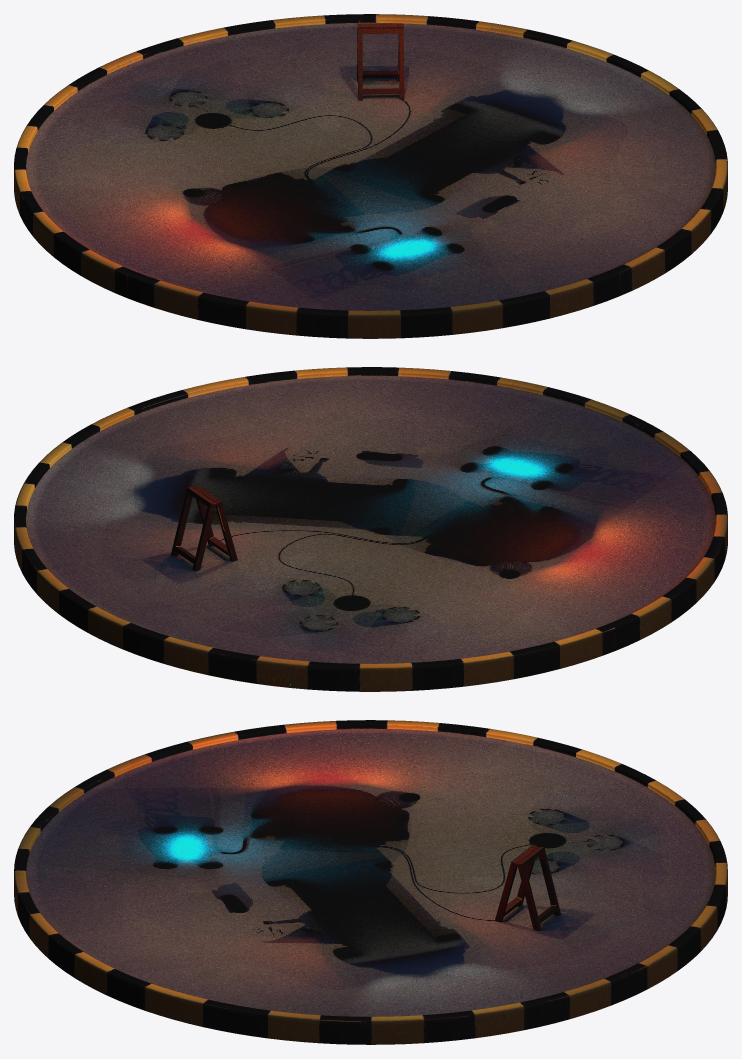
The model's file is ground.glb.
The picture shows the model from 3 angles, top to bottom: view 1: azimuth 30°, elevation 25°; view 2: azimuth 150°, elevation 25°; view 3: azimuth 270°, elevation 25°; orthographic projection.
Visible parts, largest first — view 1: Ground.004; view 2: Ground.004; view 3: Ground.004.
Part boxes in pixels (x1,y1,x2,y2): Ground.004: [14, 14, 727, 338]; Ground.004: [14, 367, 727, 691]; Ground.004: [14, 720, 727, 1044].
Bounding box in the file's own units: 8.13 × 1.04 × 8.13.
Materials: 1 (1 with a texture image).
